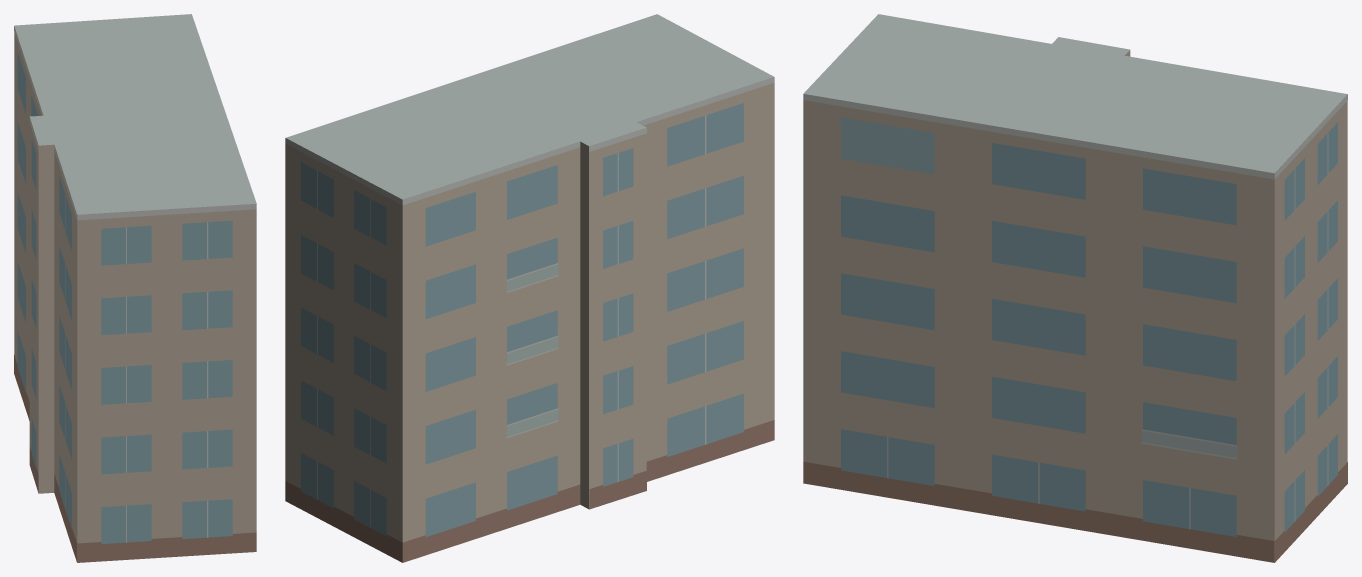
The model's file is survey-upis-32982283.glb.
The picture shows the model from 3 angles, left to right: view 1: azimuth 30°, elevation 25°; view 2: azimuth 150°, elevation 25°; view 3: azimuth 270°, elevation 25°; orthographic projection. The views are drawn at different scales.
Parts seen in each view (by area): view 1: survey-upis-32982283.tmp; view 2: survey-upis-32982283.tmp; view 3: survey-upis-32982283.tmp.
Boxes of the visible parts, <box> form: survey-upis-32982283.tmp: <box>14,14,256,562</box>; survey-upis-32982283.tmp: <box>285,14,774,562</box>; survey-upis-32982283.tmp: <box>803,14,1347,562</box>.
Size of the model in its own units: 13.38 by 15.25 by 19.33.
